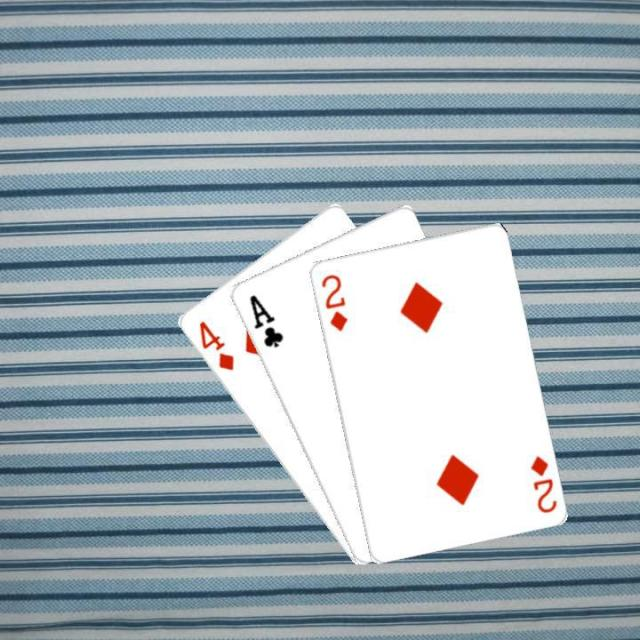2D: (316, 270, 349, 332), (526, 452, 558, 514)
4D: (193, 316, 236, 372)
AC: (244, 290, 286, 349)
